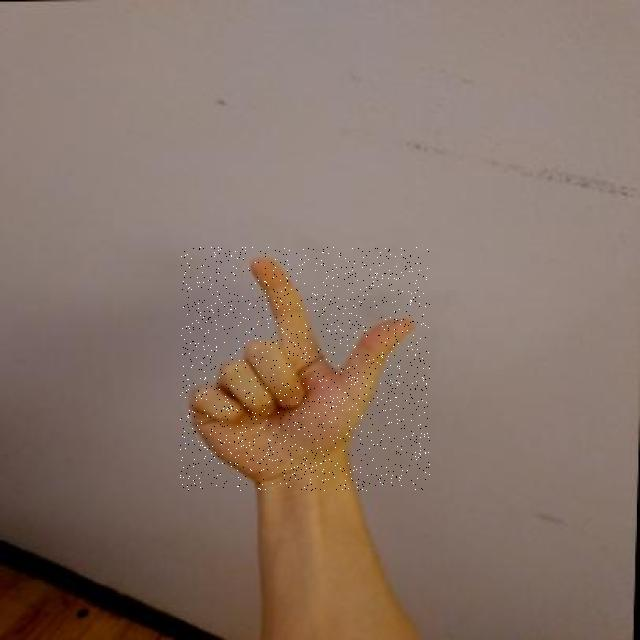L: (180, 247, 430, 491)
